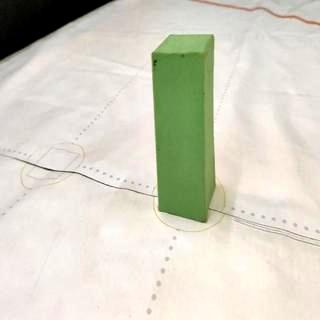greenbox: (153, 34, 215, 223)
